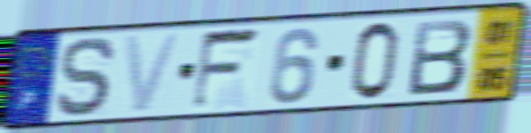0: (349, 19, 402, 103)
6: (267, 24, 320, 106)
B: (405, 16, 475, 99)
F: (188, 24, 263, 114)
S: (53, 35, 119, 119)
V: (121, 30, 185, 116)
